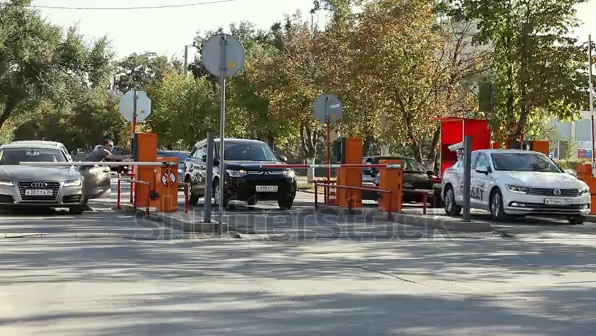licenseplate: (22, 189, 54, 201), (255, 184, 282, 189)
